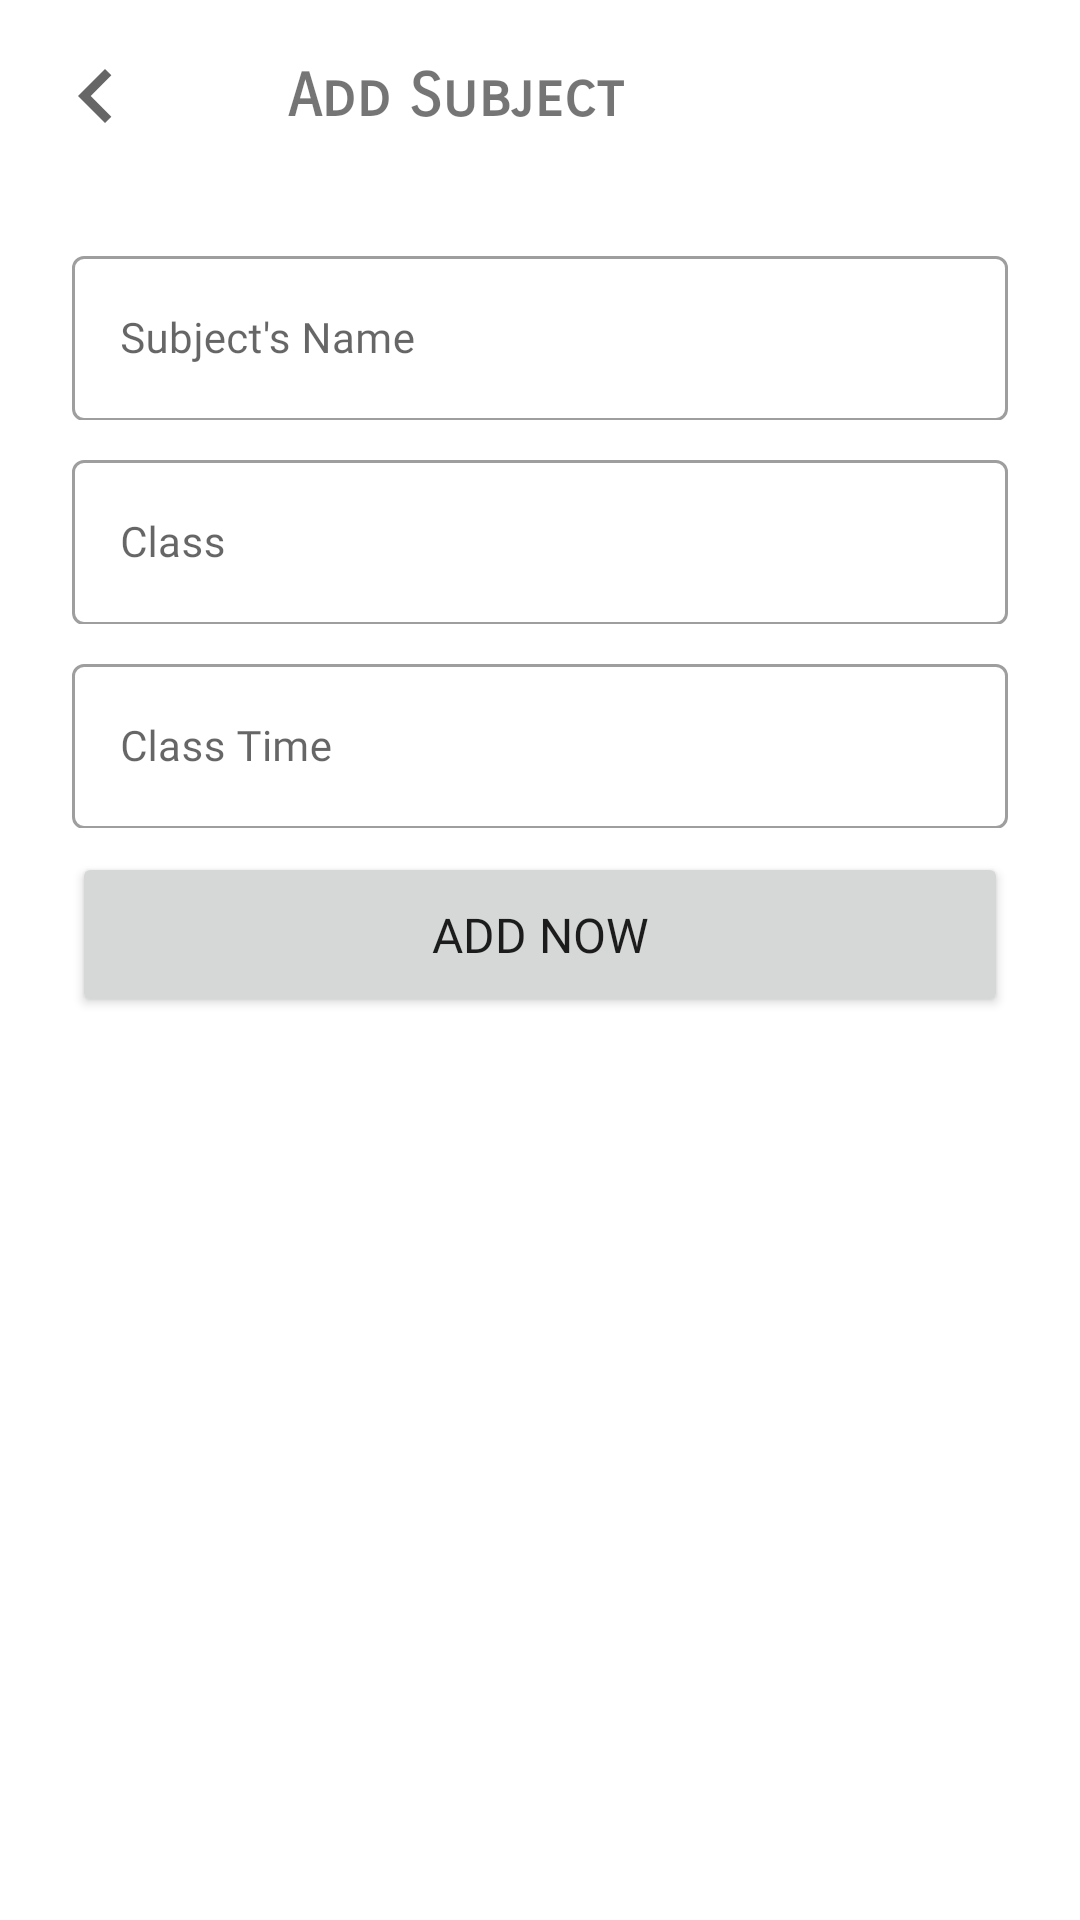

Icons on this 1080px×1920px Android screen, each with the point to tap as (x=x, y=y):
navigate back: (x=94, y=96)
